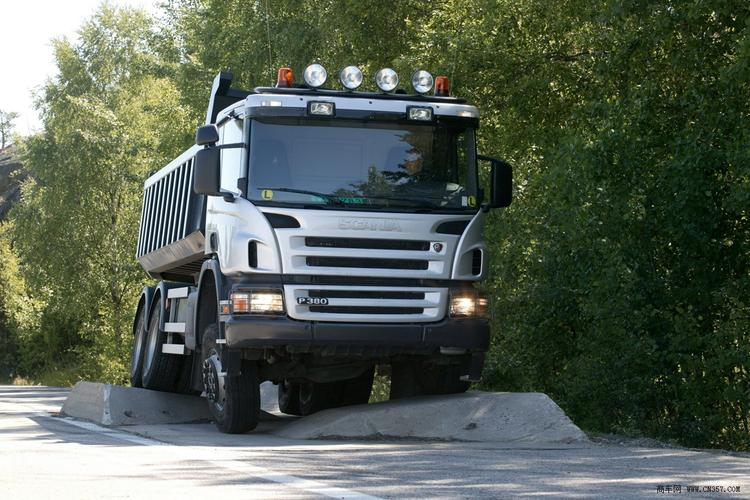卡车: (114, 62, 511, 427)
